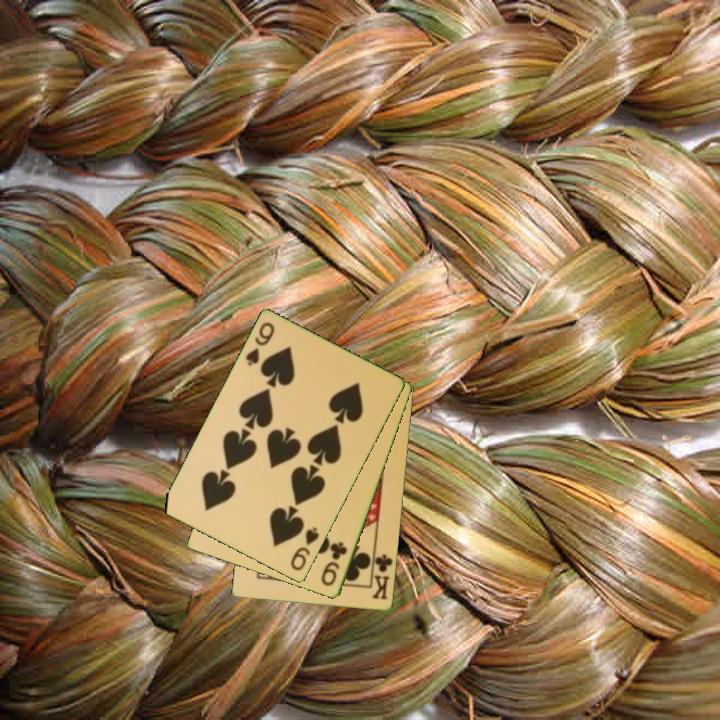9c: (318, 538, 350, 589)
9s: (242, 319, 278, 369), (287, 524, 322, 574)
Kc: (368, 548, 396, 603)
